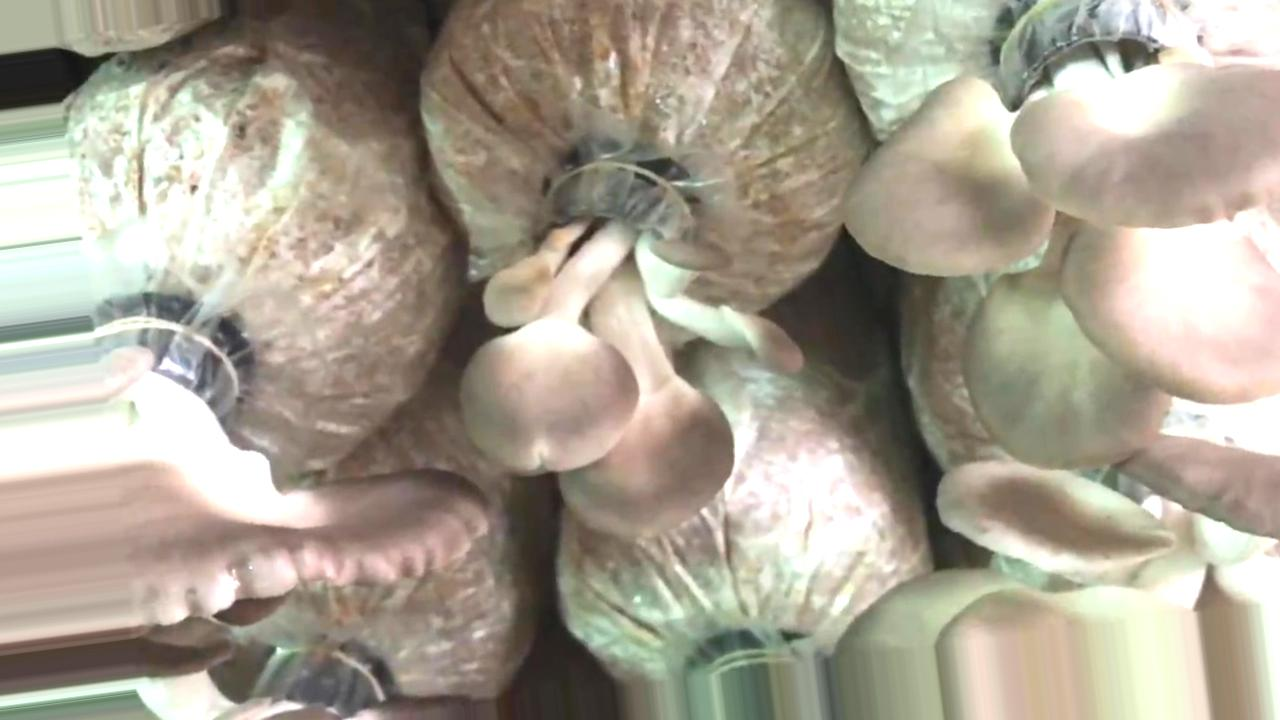nam: (845, 5, 1280, 467), (459, 138, 805, 531), (105, 339, 484, 620), (843, 466, 1280, 622)
